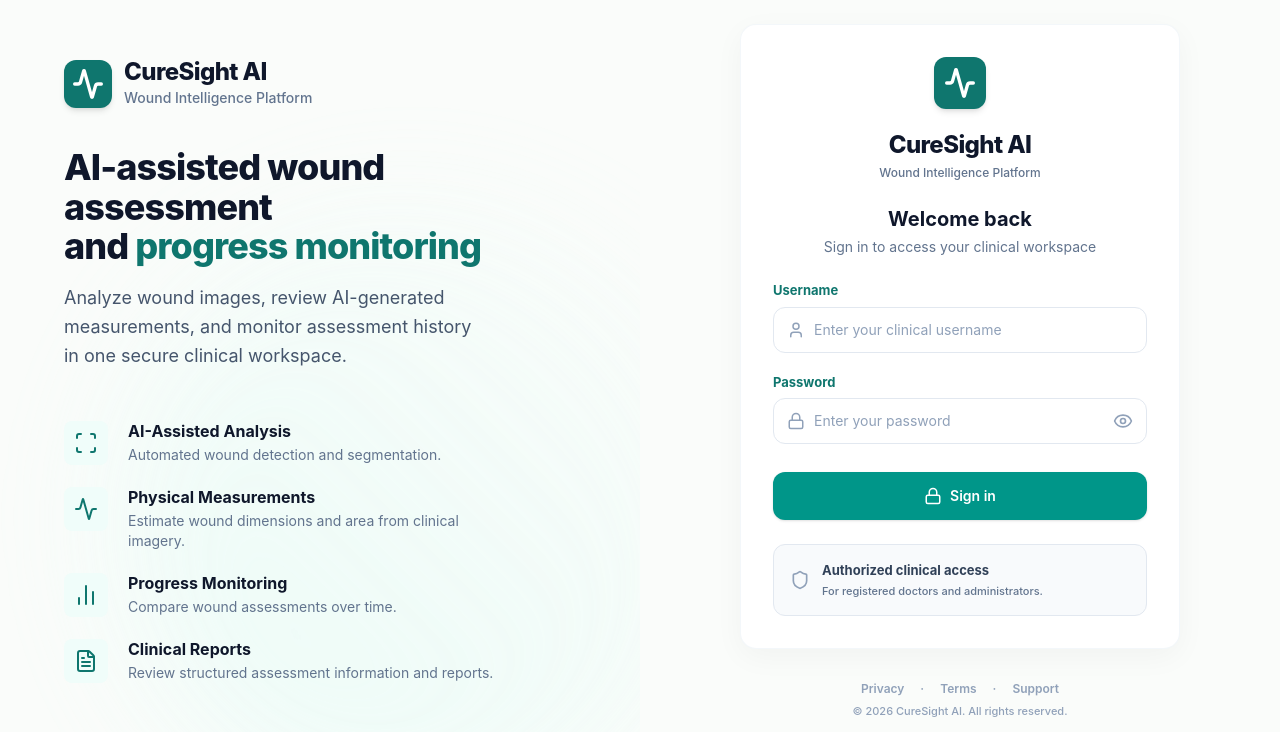
Scenario: Login Flow & Error Handling › 9. Handles login request timeout gracefully
The width and height of the screenshot is (1280, 732).
Type "user" into the field with placeholder "Enter your clinical username" at (960, 330), box [773,307,1147,353]
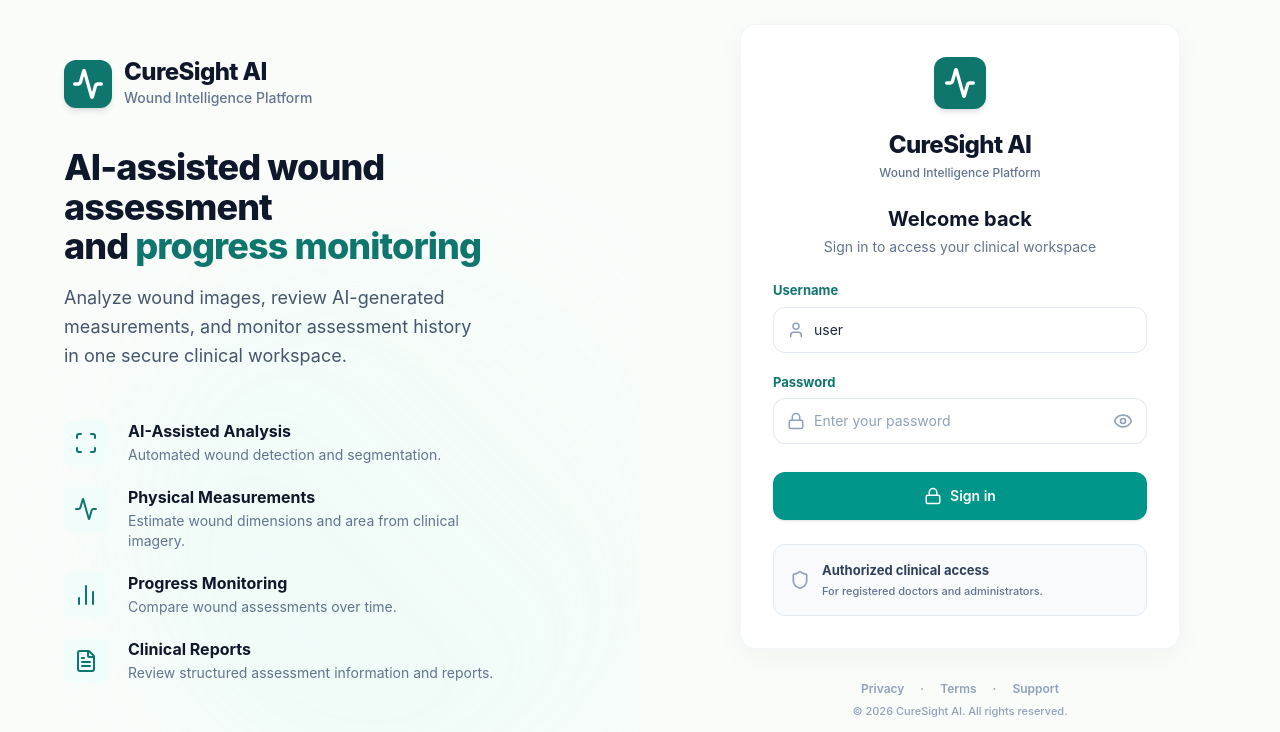
Type "pass" into the password field with placeholder "Enter your password" at (960, 421), box [773,398,1147,444]
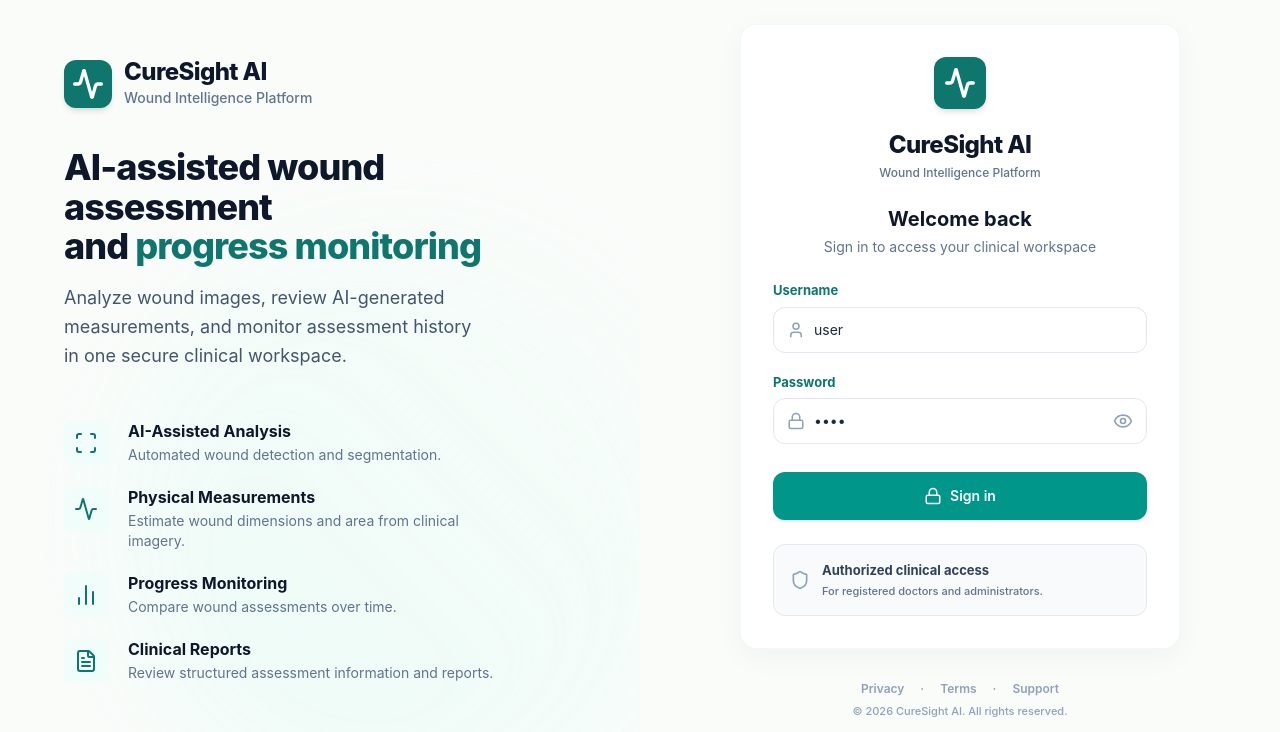
Click the button "Sign in" at (960, 496), box [773,472,1147,520]
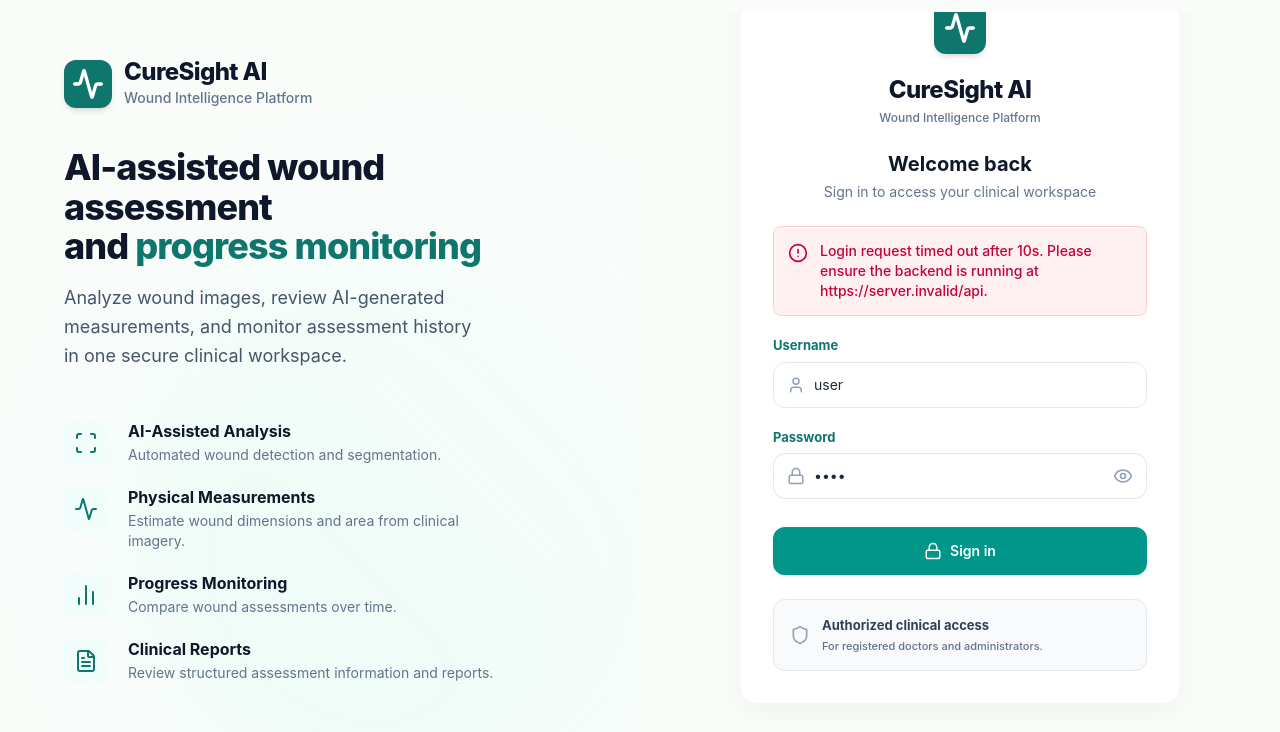
Now the text "Login request timed out after 10s" is shown, box [820,242,1092,299]
